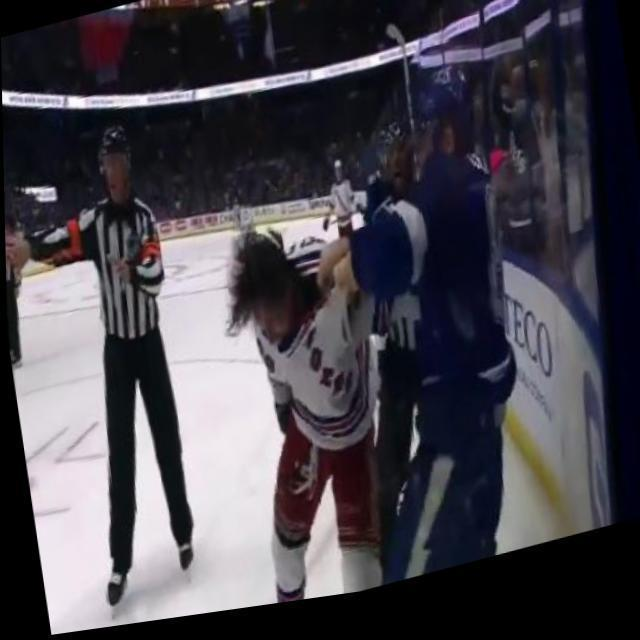fight: (165, 46, 554, 622)
